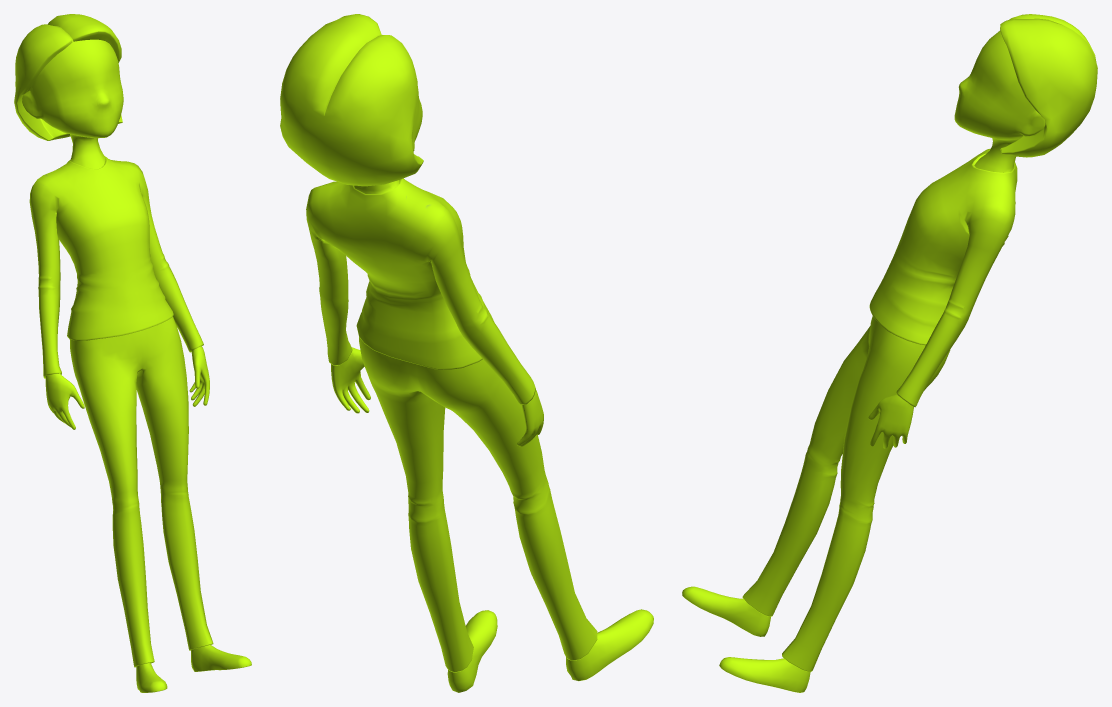
Rendered from girl.glb.
The picture shows the model from 3 angles, left to right: view 1: azimuth 30°, elevation 25°; view 2: azimuth 150°, elevation 25°; view 3: azimuth 270°, elevation 25°; orthographic projection. The views are drawn at different scales.
Parts seen in each view (by area): view 1: node_id5; view 2: node_id5; view 3: node_id5.
Boxes of the visible parts, box(x1,y1,x2,y2) form: node_id5: box(14, 14, 251, 692); node_id5: box(280, 14, 653, 692); node_id5: box(682, 14, 1097, 692).
Bounding box in the file's own units: 0.512 × 1.82 × 1.04.
Materials: 1 (1 with a texture image).
